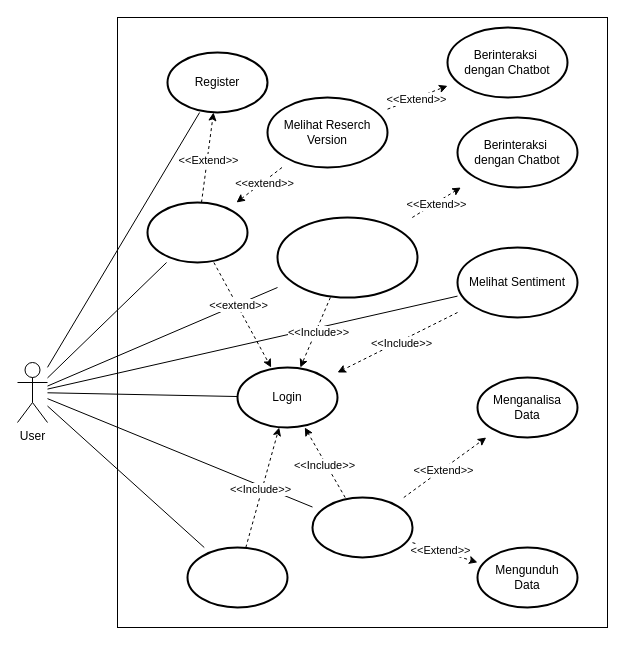
The diagram is 625 pixels wide and 645 high, and some of its shapes have lost their labels. Here are the shapes that lost their labels. From the top down, the centre of each, then its label:
At (x=197, y=232): "Akses Landing Page".
At (x=347, y=257): "Melihat Overall Sentiment, Insight Summary, dan Aspect".
At (x=362, y=527): "Melihat Data Scrapper".
At (x=237, y=577): "Melihat Rekomendasi Konten".
